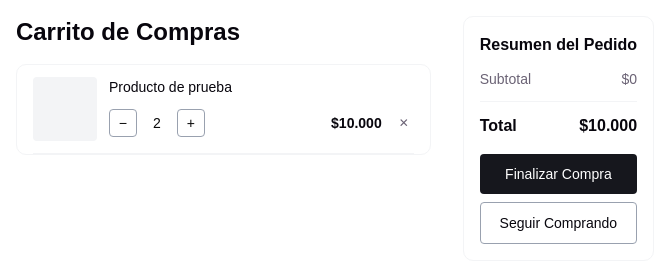
Cart page › removing the only line brings back the empty-cart state
Click the button named "Eliminar Producto de prueba del carrito".
click(404, 123)  # box x1=386 y1=105 x2=422 y2=141
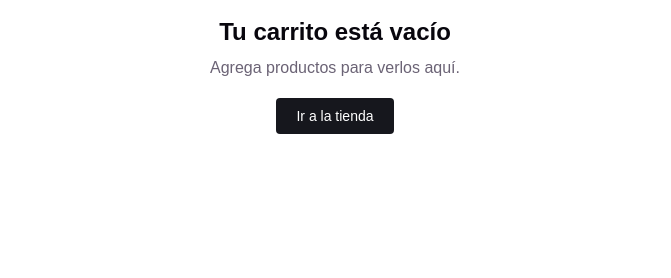
Now the heading "Tu carrito está vacío" is shown, box x1=210 y1=16 x2=460 y2=48
